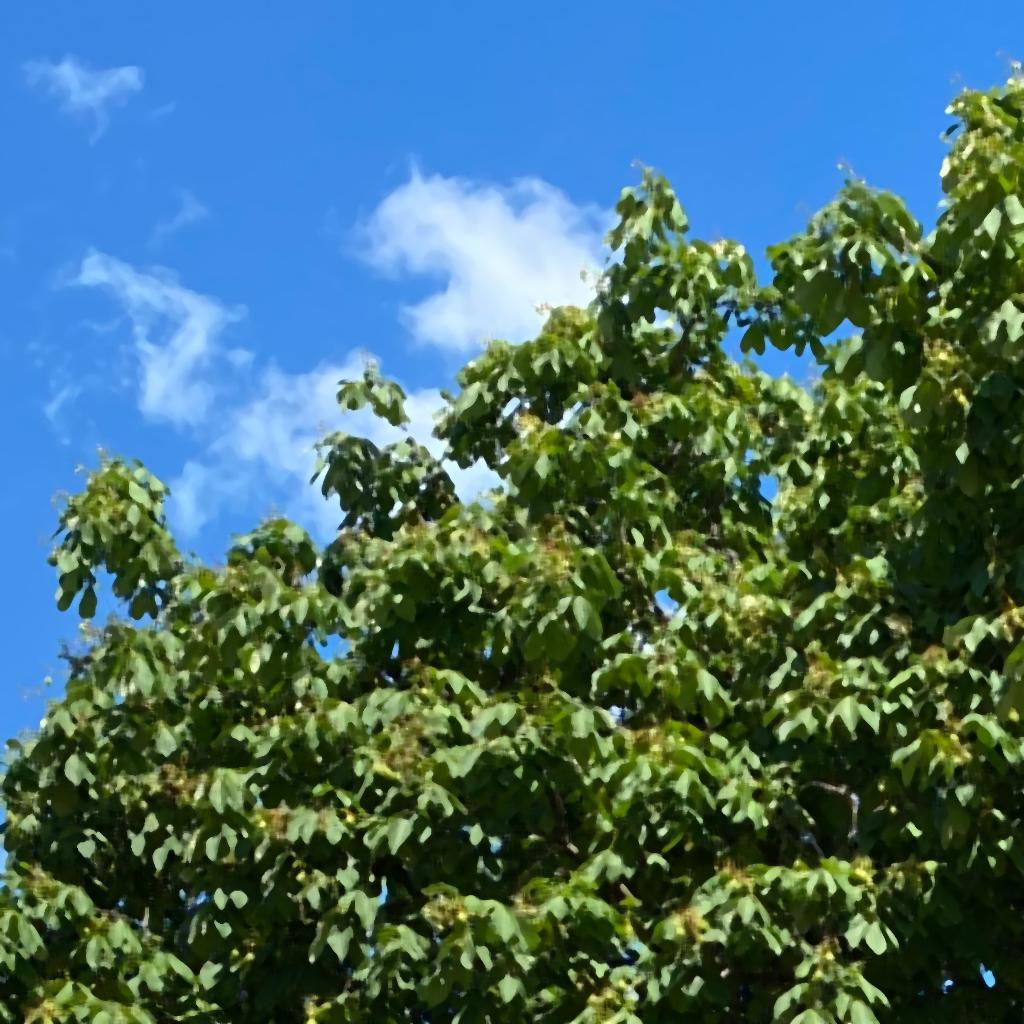tree: (1, 50, 1024, 1024)
